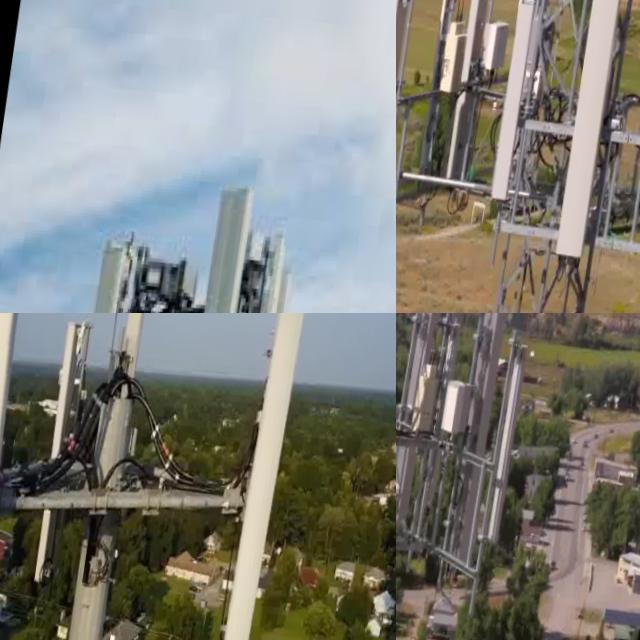GSM Antenna: (219, 313, 323, 640), (547, 0, 631, 275), (444, 313, 523, 566), (27, 321, 94, 588), (396, 313, 465, 558), (436, 0, 509, 187), (0, 313, 41, 640), (482, 0, 540, 221), (487, 334, 537, 538), (193, 182, 260, 313), (102, 313, 149, 476), (396, 0, 430, 221), (66, 219, 133, 313), (237, 231, 291, 313), (396, 313, 415, 429)
